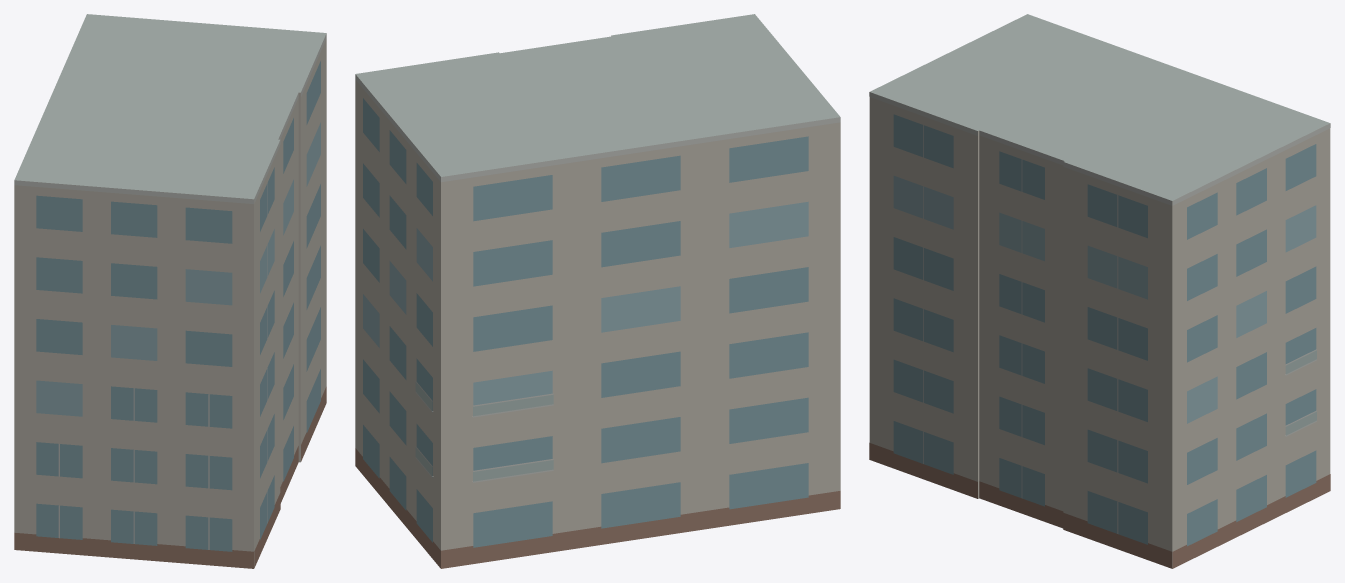
File: survey-upis-32754215.glb
The picture shows the model from 3 angles, left to right: view 1: azimuth 30°, elevation 25°; view 2: azimuth 150°, elevation 25°; view 3: azimuth 270°, elevation 25°; orthographic projection. The views are drawn at different scales.
Visible parts, largest first — view 1: survey-upis-32754215.tmp; view 2: survey-upis-32754215.tmp; view 3: survey-upis-32754215.tmp.
Part boxes in pixels (x1,y1,x2,y2): survey-upis-32754215.tmp: [14, 14, 326, 568]; survey-upis-32754215.tmp: [355, 14, 840, 568]; survey-upis-32754215.tmp: [869, 14, 1330, 568].
Size of the model in its own units: 19.96 by 18.3 by 20.79.
